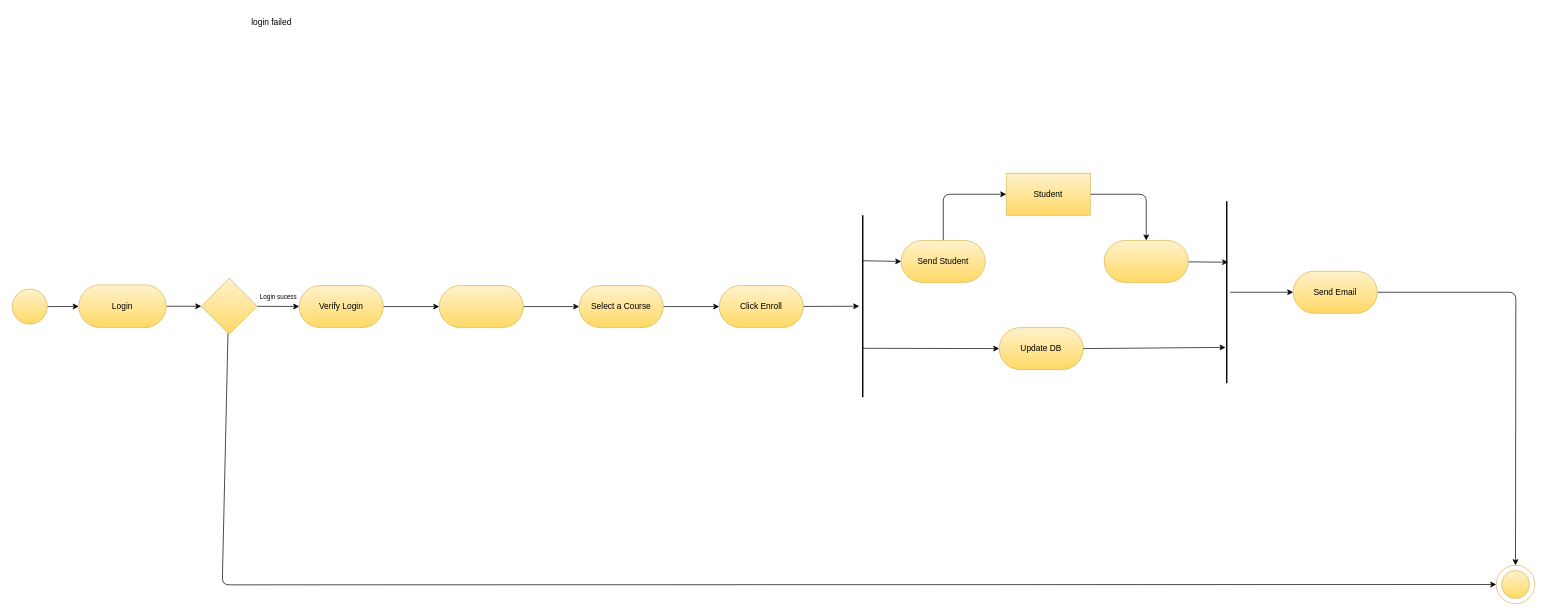
Image size: 1547x616. Some labels were removed from this diagram. Each missing label, with the box of its shape:
Browse Course: (439, 285, 523, 328)
End: (1501, 570, 1530, 598)
Enrollment: (1104, 240, 1188, 282)
Start: (12, 288, 47, 324)
